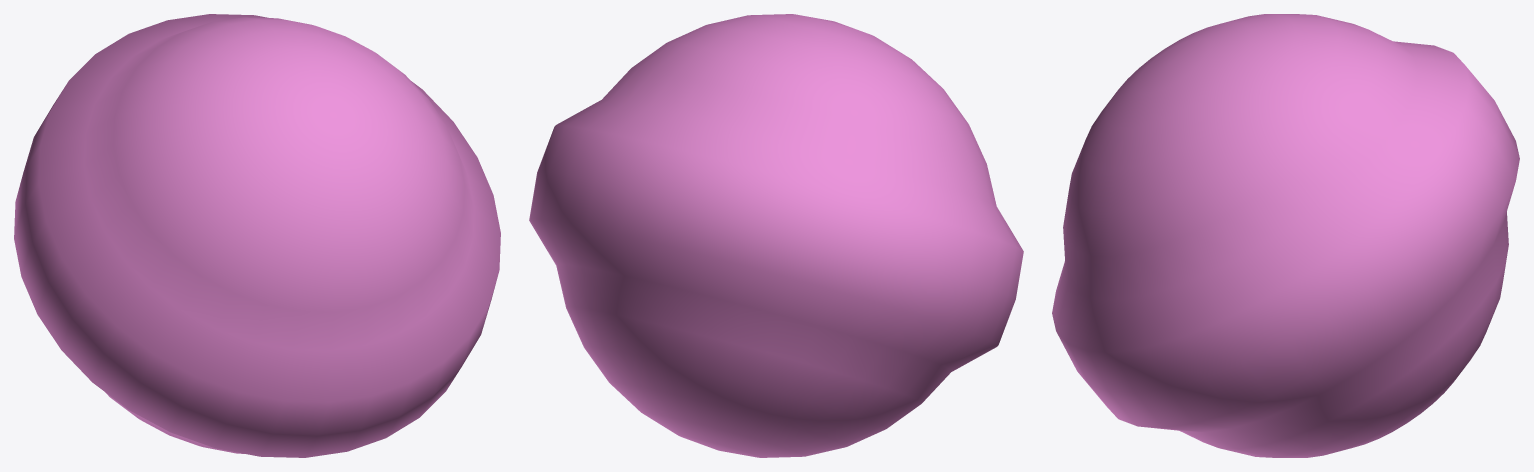
Rendered from Lollipop.fbx.
The picture shows the model from 3 angles, left to right: view 1: azimuth 30°, elevation 25°; view 2: azimuth 150°, elevation 25°; view 3: azimuth 270°, elevation 25°; orthographic projection.
Visible parts, largest first — view 1: Sphere; view 2: Sphere; view 3: Sphere.
Part boxes in pixels (<box>): Sphere: <box>14,14,500,457</box>; Sphere: <box>529,14,1023,457</box>; Sphere: <box>1052,14,1519,457</box>.
Bounding box in the file's own units: 482 × 431 × 453.
